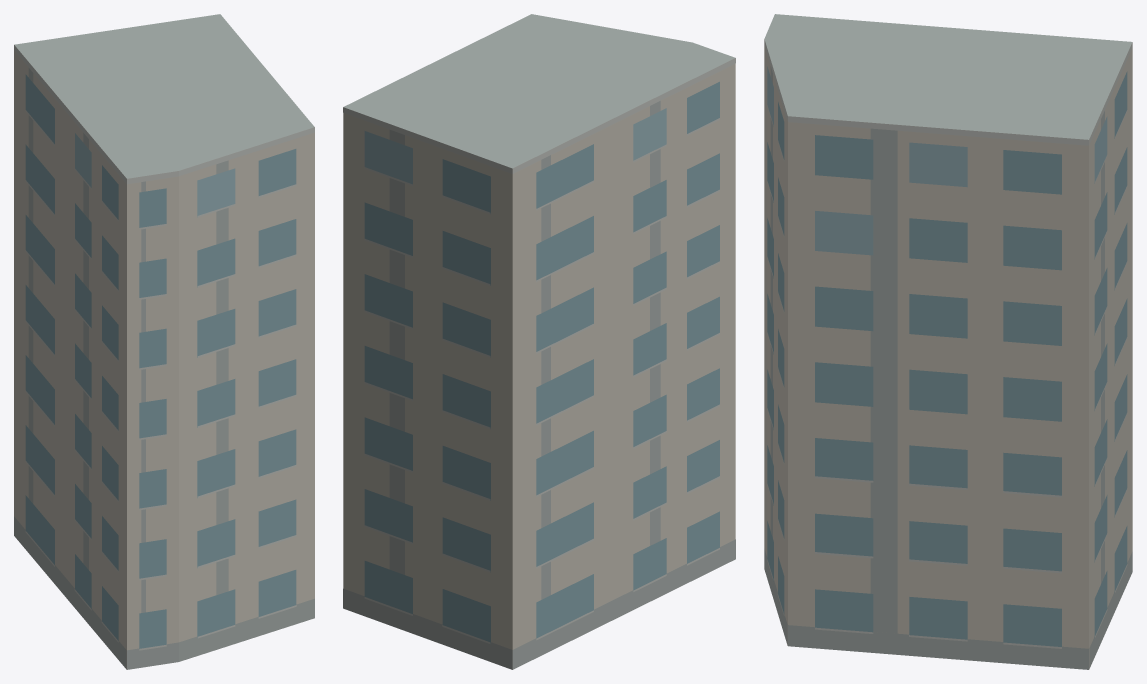
File: survey-upis-33002757.glb
3 renders of one model, left to right at view 1: azimuth 30°, elevation 25°; view 2: azimuth 150°, elevation 25°; view 3: azimuth 270°, elevation 25°, orthographic. The views are drawn at different scales.
Parts seen in each view (by area): view 1: survey-upis-33002757.tmp; view 2: survey-upis-33002757.tmp; view 3: survey-upis-33002757.tmp.
Boxes of the visible parts, <box> form: survey-upis-33002757.tmp: <box>14,14,314,669</box>; survey-upis-33002757.tmp: <box>343,14,735,669</box>; survey-upis-33002757.tmp: <box>764,14,1132,669</box>.
Bounding box in the file's own units: 11.16 × 21.9 × 13.8.
